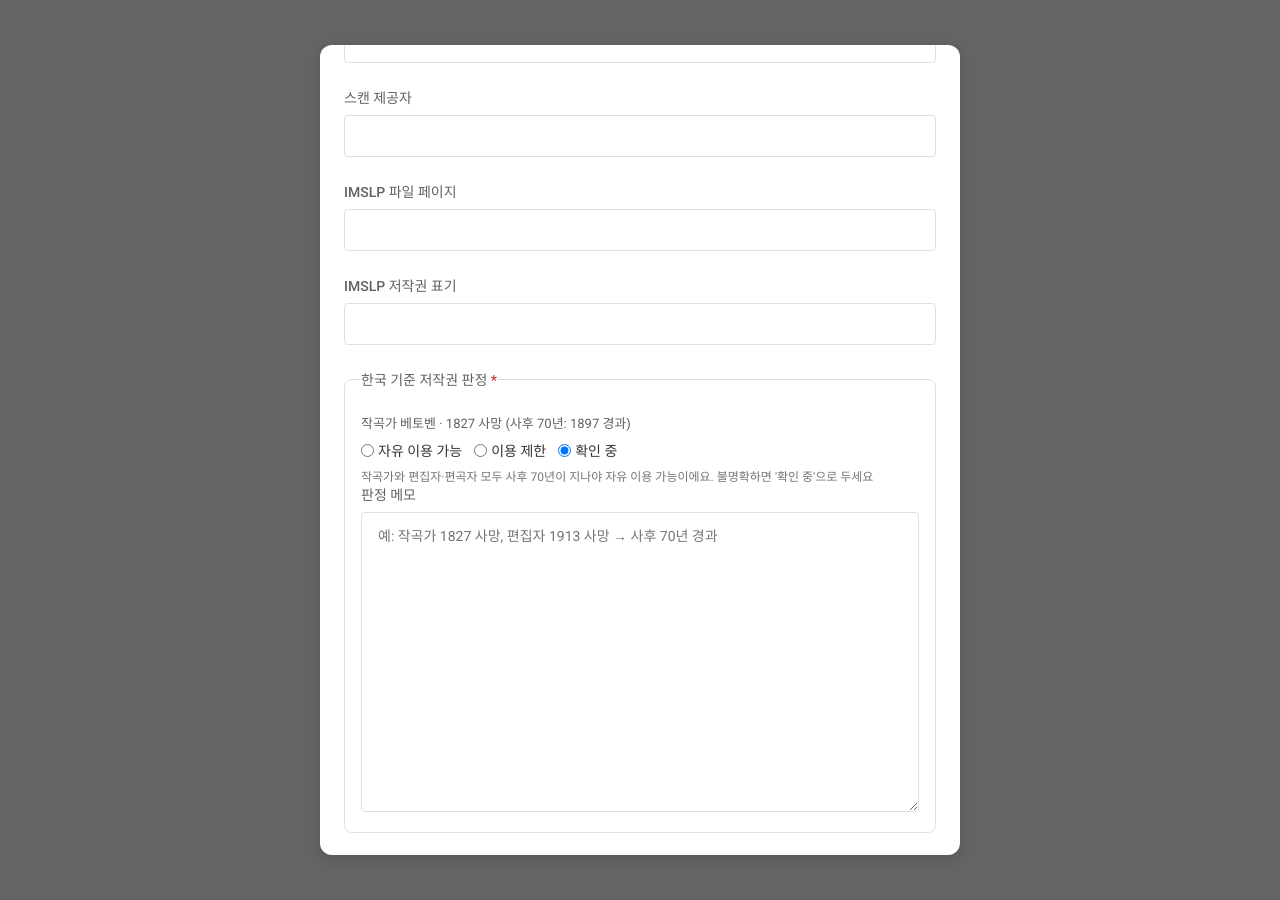
EditionFormModal — 검증·저장 › FREE 로 바꾸고 메모가 비면 '판정 근거를 적어 주세요', 저장 요청 없음
(page scrolled)
Click the radio button labelled "자유 이용 가능" at (368, 450), box [361, 444, 374, 456]
(page scrolled)
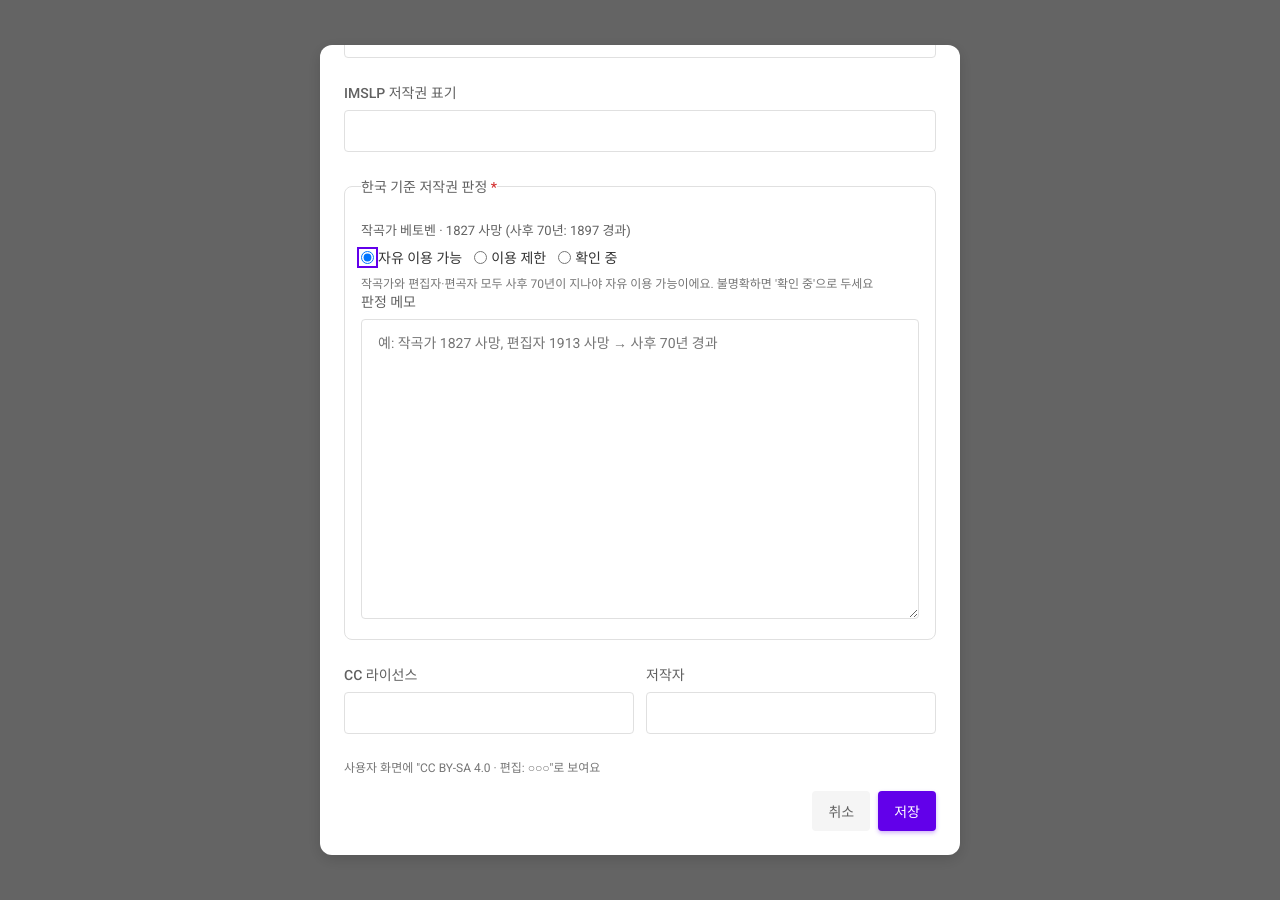
Click the button "저장" at (907, 810), box [878, 790, 936, 830]
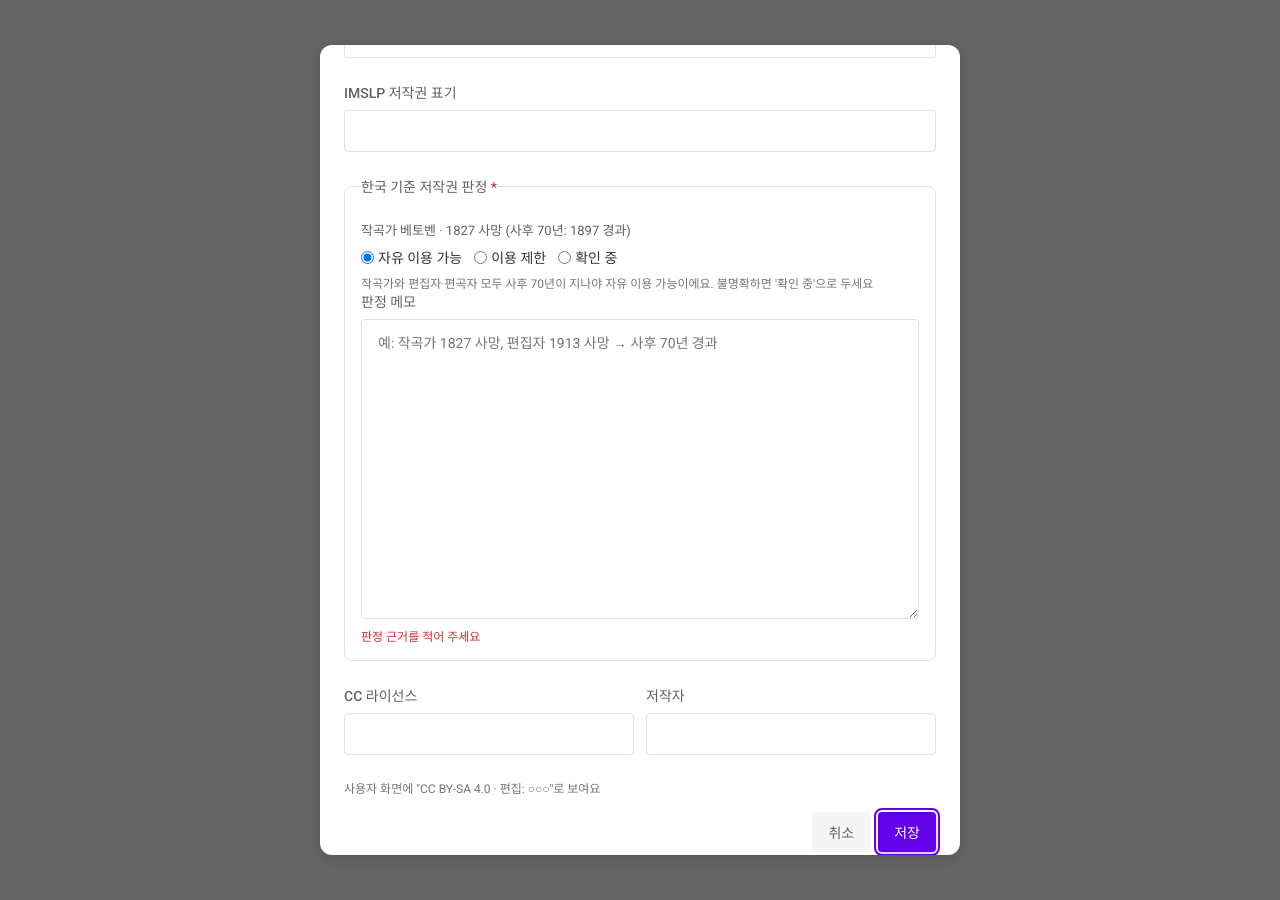
Expected: the dialog shows "판정 근거를 적어 주세요", [361, 630, 480, 644]
